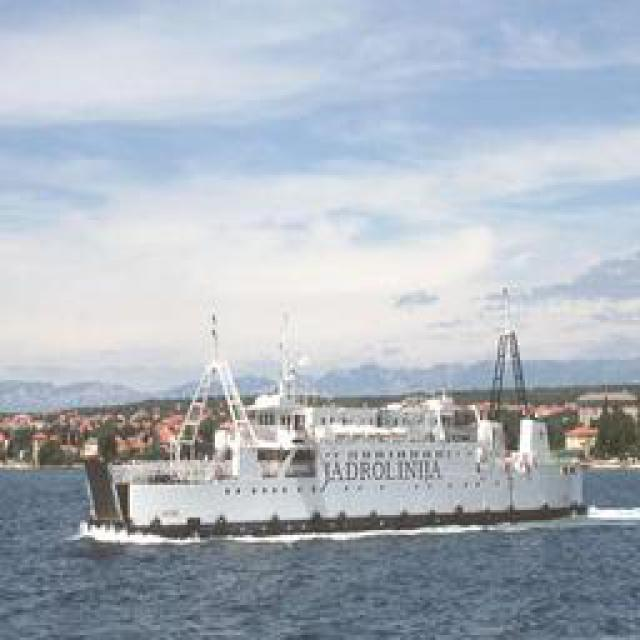Ship: (80, 414, 618, 547)
